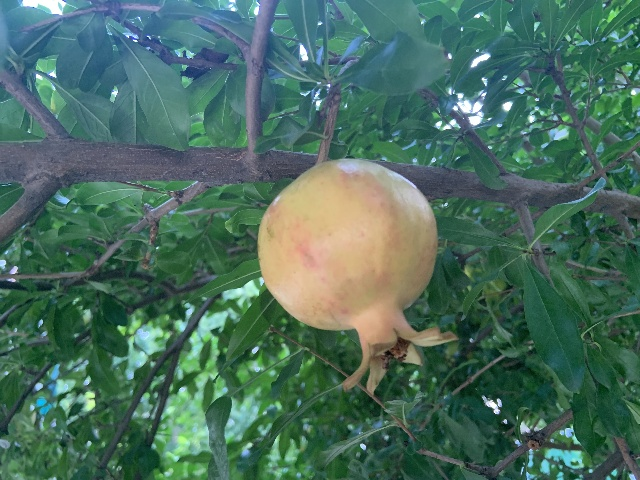mid-growth: (256, 159, 459, 400)
